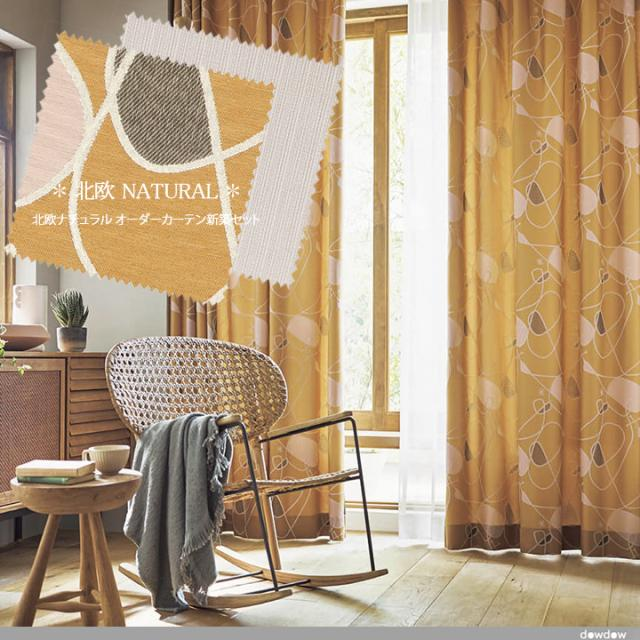natural chair: (106, 332, 397, 614)
